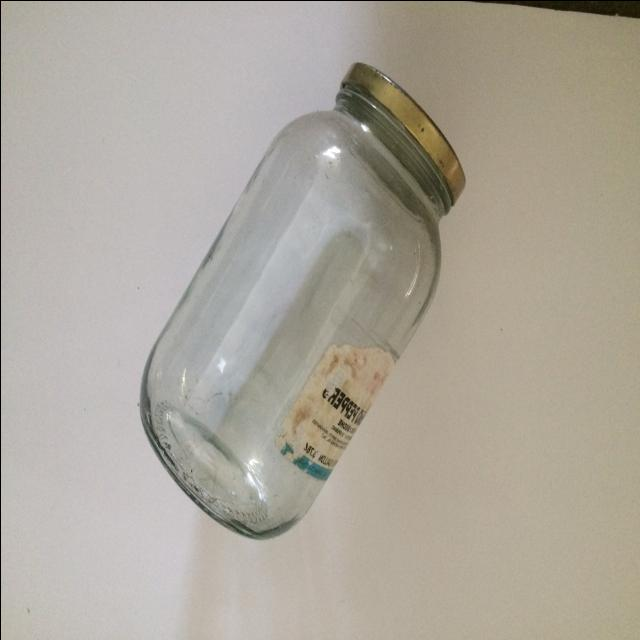glass: (134, 48, 487, 546)
